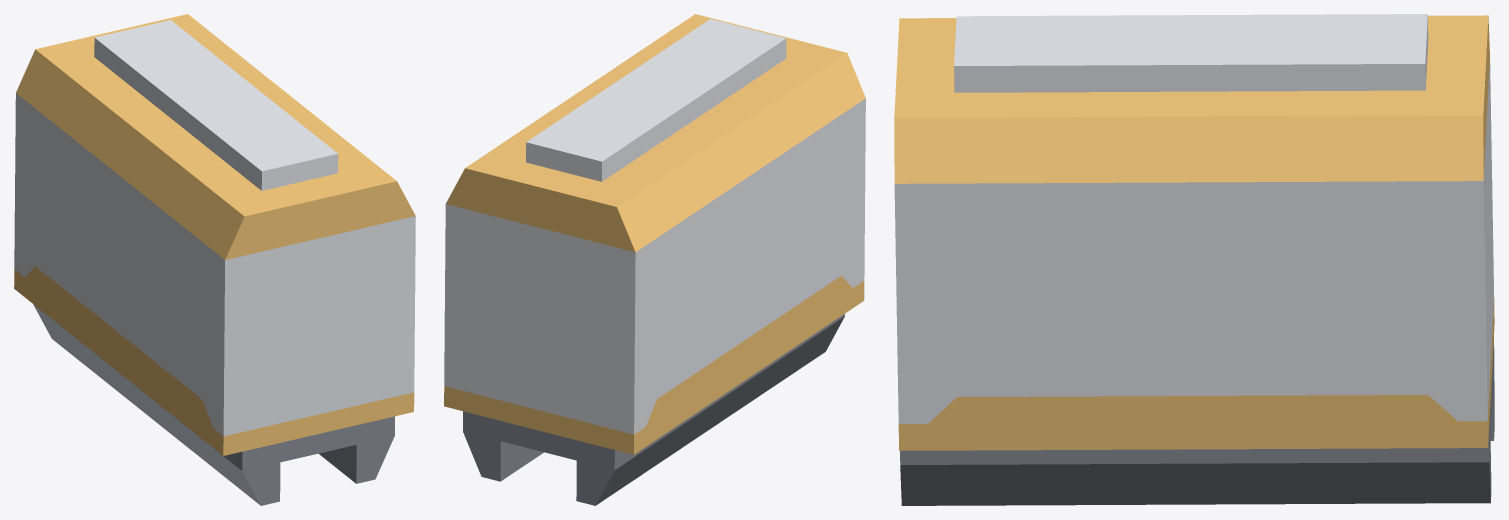
Rendered from monorail6.glb.
3 renders of one model, left to right at view 1: azimuth 30°, elevation 25°; view 2: azimuth 150°, elevation 25°; view 3: azimuth 270°, elevation 25°, orthographic. The views are drawn at different scales.
Visible parts, largest first — view 1: monorail_trainBox; view 2: monorail_trainBox; view 3: monorail_trainBox.
Part boxes in pixels (x1,y1,x2,y2): monorail_trainBox: (14, 14, 415, 505); monorail_trainBox: (444, 14, 865, 505); monorail_trainBox: (894, 14, 1494, 505).
Size of the model in its own units: 2.61 by 4.07 by 5.09.
